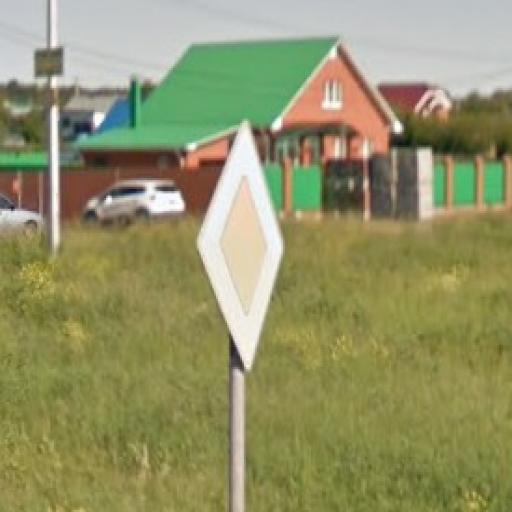traffic_sign: (197, 117, 288, 377)
